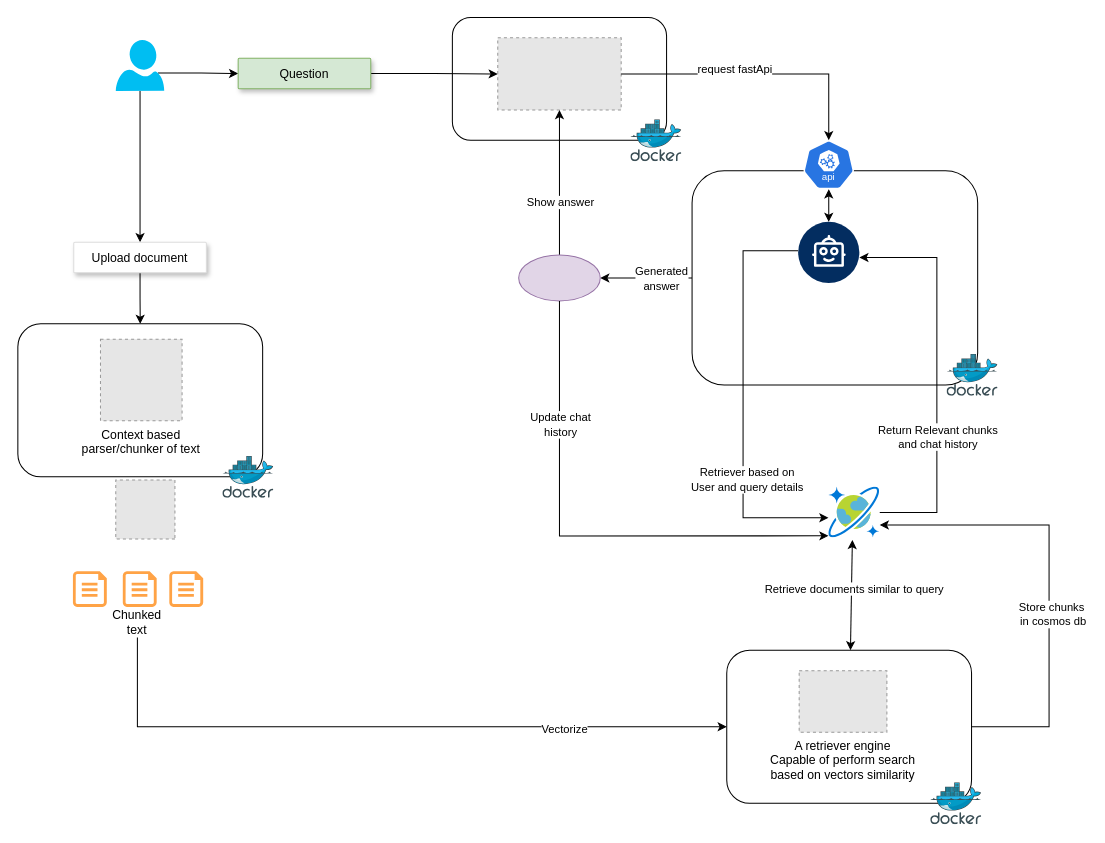
The diagram is 1105 pixels wide and 843 high, and some of its shapes have lost their labels. Grey dashed boxes stand in for pictures. Here are the shapes that lost their labels. From the top down, the centre of each, then its label:
the point at 828,252: ChatBot based on langchain chains
the point at 559,277: Answer
